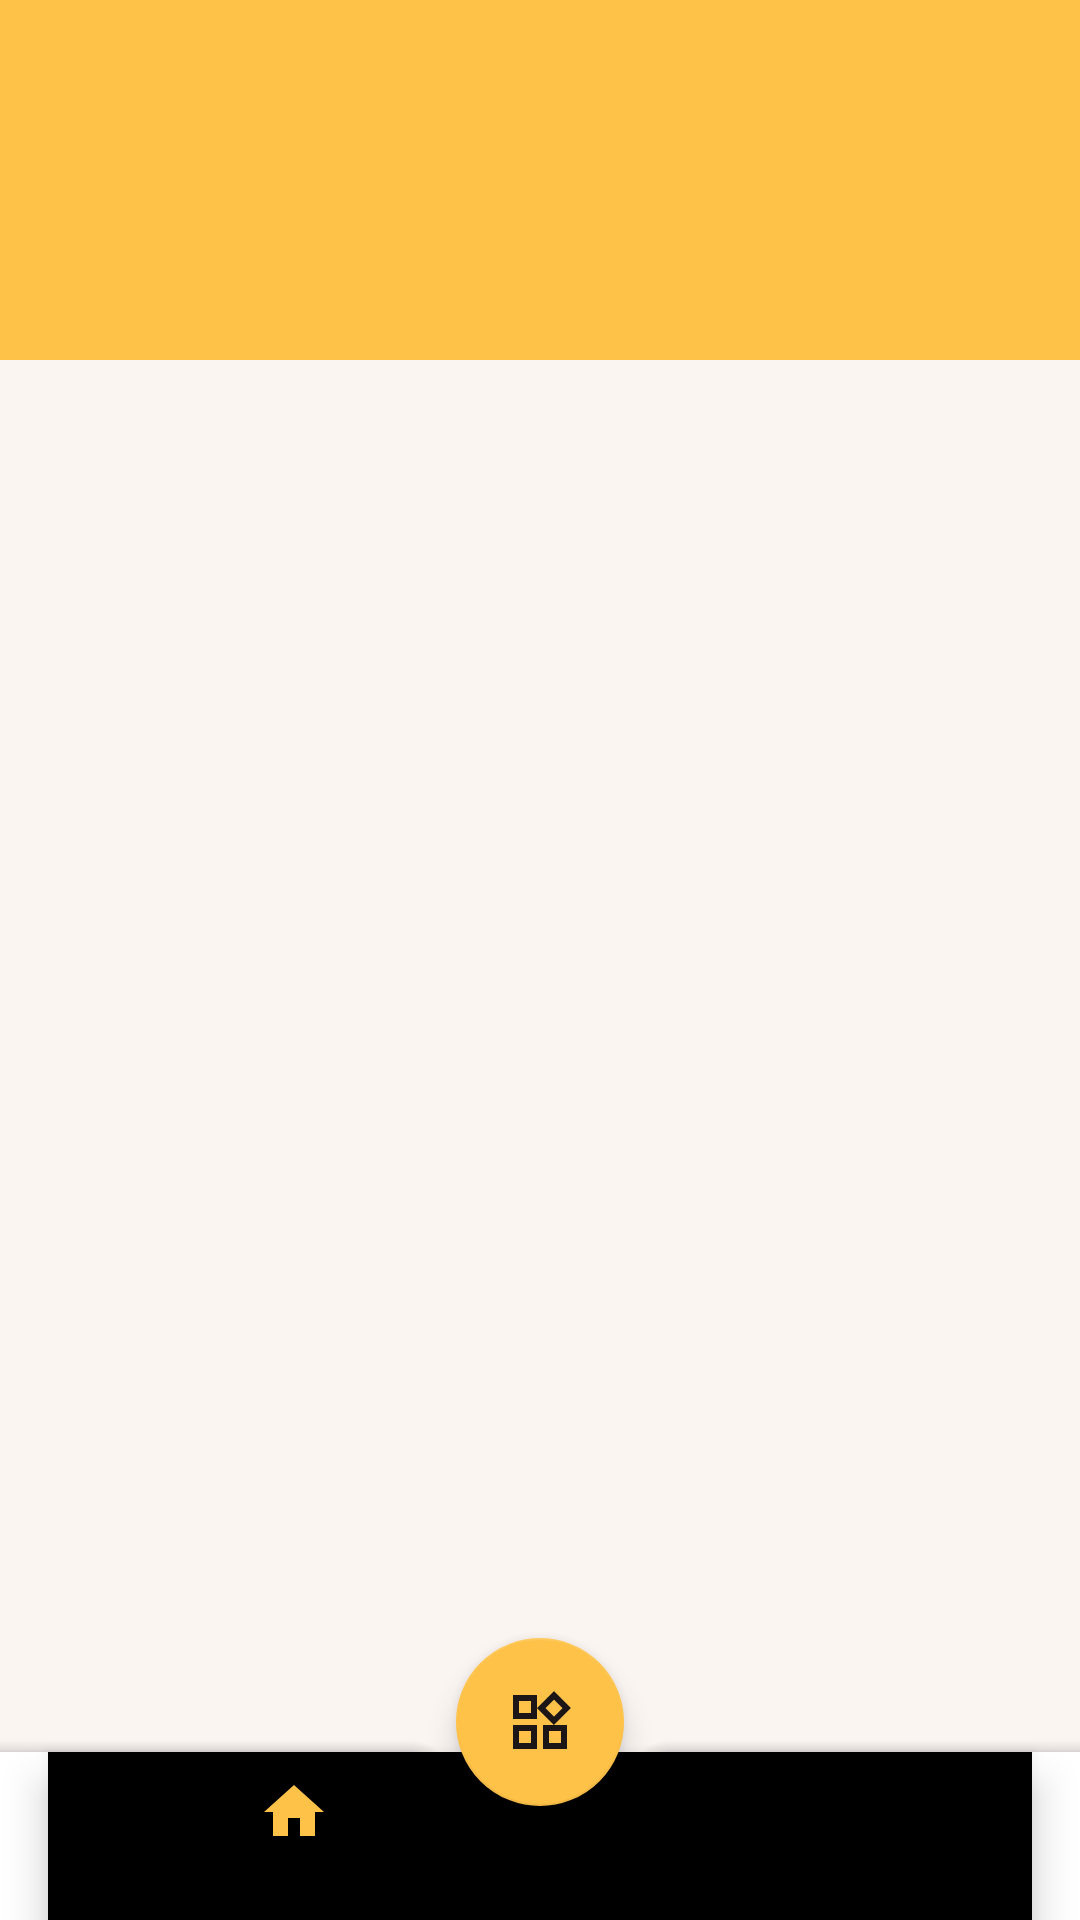

Icon click points for this 1080w x 1920h phone screenshot, format (x=x, y=y):
menu: (x=540, y=1752)
